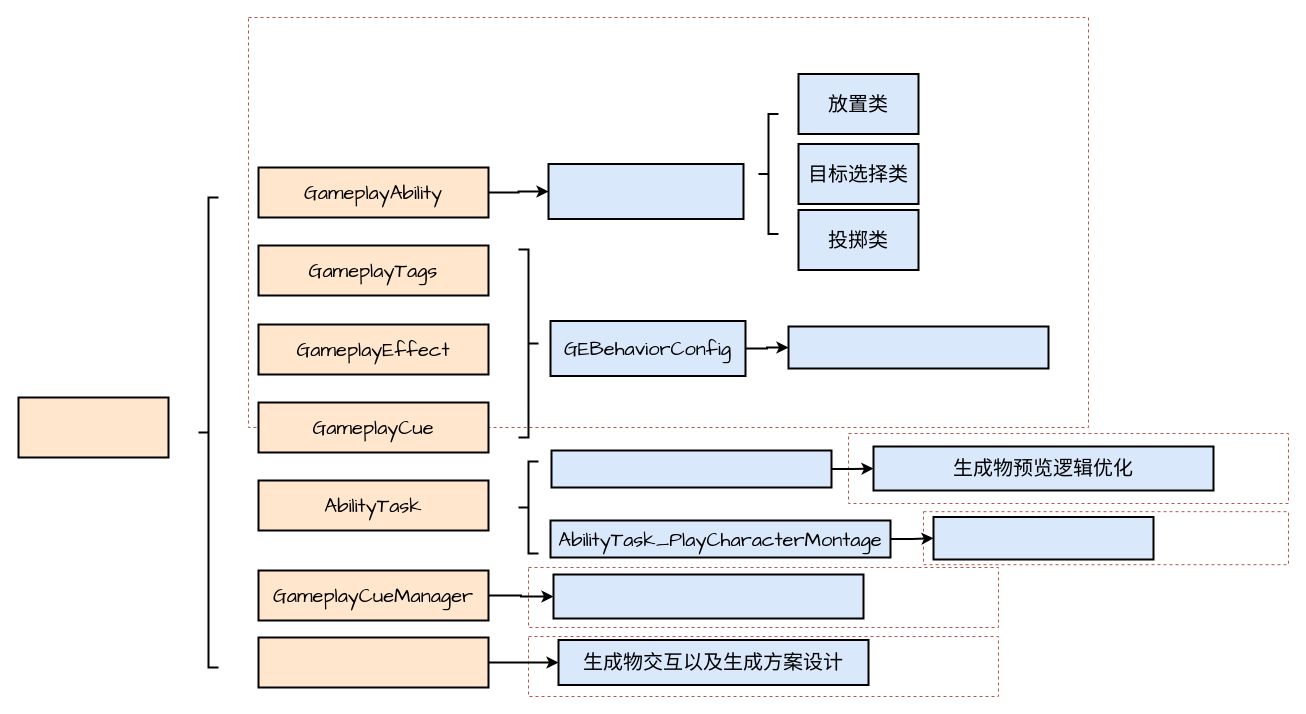
The diagram is 1306 pixels wide and 714 high, and some of its shapes have lost their labels. The centre of each missing label's shape, as x and y in pixels:
"AbilityTask_WaitTargetData" belongs at (691,468).
"GameplayCue资源加载优化" belongs at (708,596).
"GAS" belongs at (93,427).
"NBActor" belongs at (373,662).
"动画资源检查工具" belongs at (1043,538).
"通用技能模板" belongs at (645,191).
"通用表现由数据驱动" belongs at (918,347).
